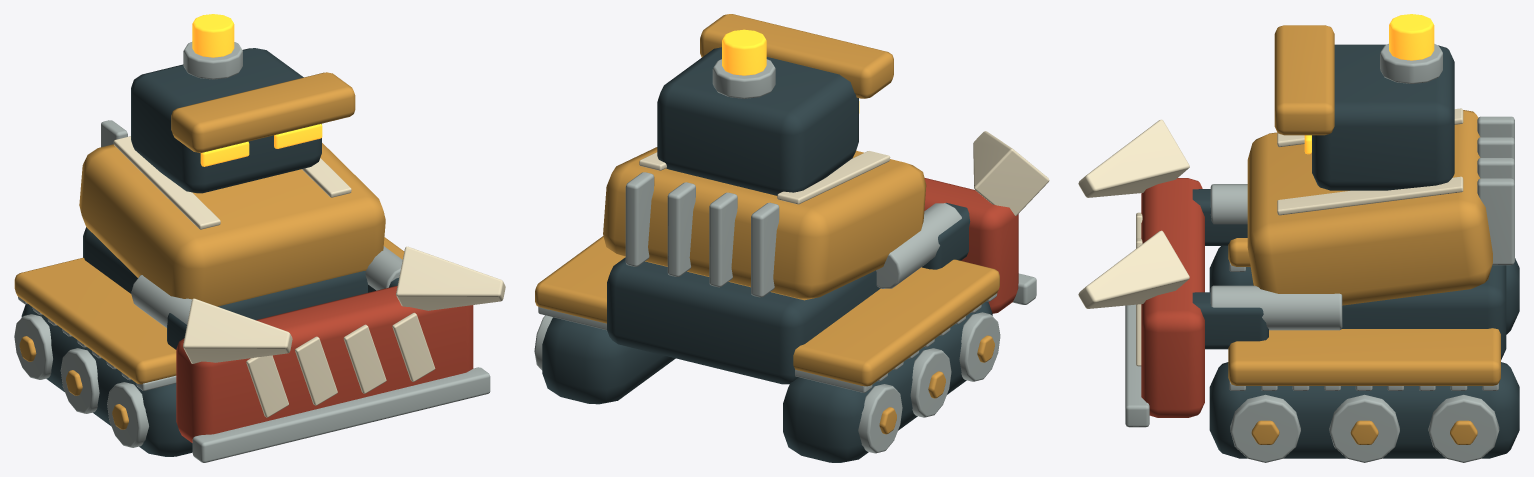
File: enemy-miniboss.glb
The picture shows the model from 3 angles, left to right: view 1: azimuth 30°, elevation 25°; view 2: azimuth 150°, elevation 25°; view 3: azimuth 270°, elevation 25°; orthographic projection. The views are drawn at different scales.
Parts seen in each view (by area): view 1: miniboss_armor, miniboss_dark, miniboss_ivory, miniboss_red, miniboss_steel, miniboss_heat; view 2: miniboss_dark, miniboss_armor, miniboss_steel, miniboss_ivory, miniboss_red, miniboss_heat; view 3: miniboss_armor, miniboss_dark, miniboss_steel, miniboss_ivory, miniboss_red, miniboss_heat.
Boxes of the visible parts, x1,y1,x2,y2 form: miniboss_armor: [14, 72, 404, 429]; miniboss_dark: [21, 48, 398, 456]; miniboss_ivory: [113, 136, 505, 417]; miniboss_red: [176, 285, 473, 442]; miniboss_steel: [14, 42, 490, 462]; miniboss_heat: [192, 14, 322, 166]; miniboss_dark: [542, 47, 992, 462]; miniboss_armor: [535, 14, 999, 434]; miniboss_steel: [534, 59, 1036, 453]; miniboss_ivory: [639, 131, 1049, 215]; miniboss_red: [924, 178, 1018, 313]; miniboss_heat: [722, 29, 859, 113]; miniboss_armor: [1228, 25, 1500, 444]; miniboss_dark: [1192, 44, 1519, 458]; miniboss_steel: [1125, 44, 1514, 462]; miniboss_ivory: [1078, 108, 1463, 366]; miniboss_red: [1141, 178, 1204, 417]; miniboss_heat: [1304, 14, 1434, 154].
Size of the model in its own units: 2.15 by 2.17 by 2.35.
